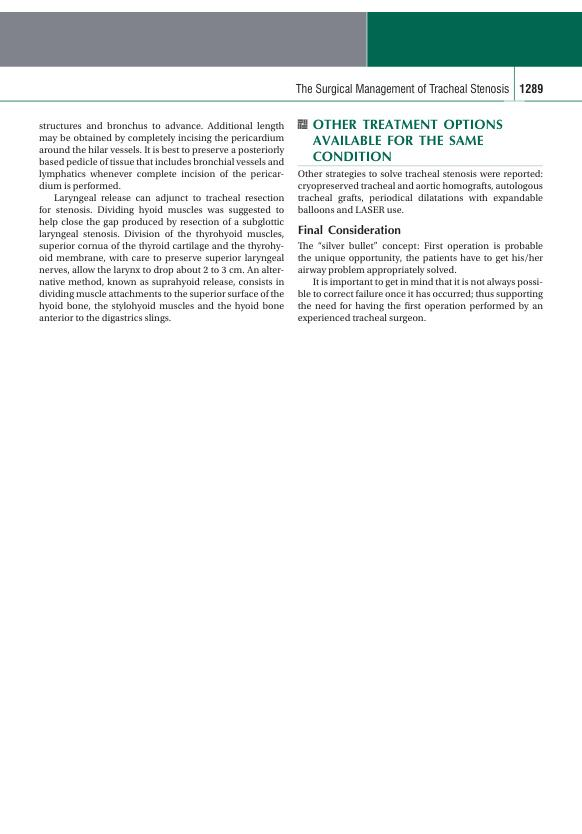header: (294, 82, 511, 96)
section-heading: (311, 117, 505, 163)
sub-section-heading: (297, 223, 401, 236)
text: (37, 121, 285, 324), (296, 239, 545, 325), (296, 167, 544, 216)
